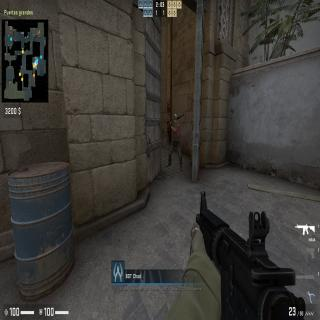T-Head: (172, 114, 178, 124)
